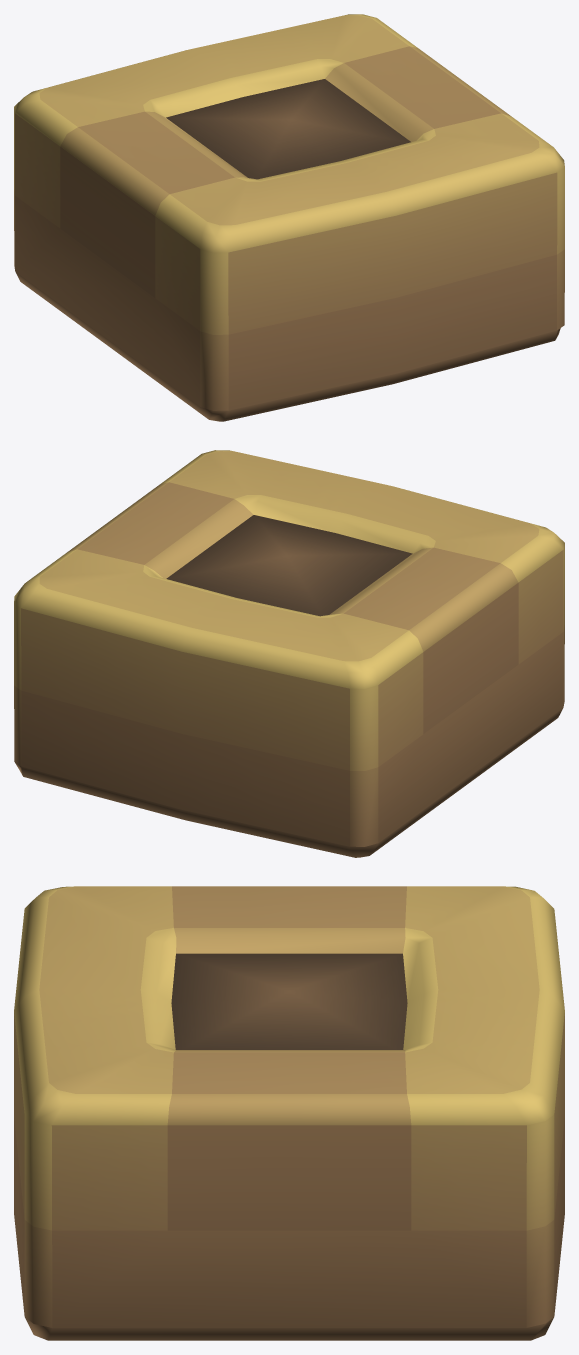
File: plant_box3_LOD_setup.fbx
3 renders of one model, top to bottom at view 1: azimuth 30°, elevation 25°; view 2: azimuth 150°, elevation 25°; view 3: azimuth 270°, elevation 25°, orthographic. The views are drawn at different scales.
Visible parts, largest first — view 1: plant_box3_LOD0; view 2: plant_box3_LOD0; view 3: plant_box3_LOD0.
Part boxes in pixels (<box>): plant_box3_LOD0: <box>14,14,564,421</box>; plant_box3_LOD0: <box>14,450,564,857</box>; plant_box3_LOD0: <box>14,886,564,1340</box>.
Size of what is drawn, in the model's own units: 102 by 51.38 by 104.
